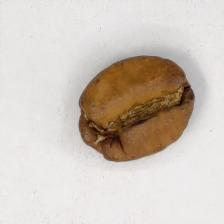NG: (80, 65, 191, 149)
